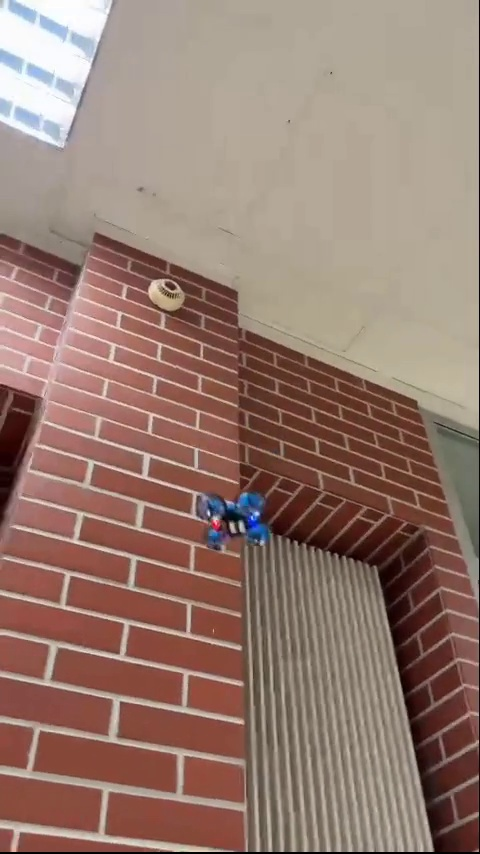drone: (198, 493, 267, 547)
